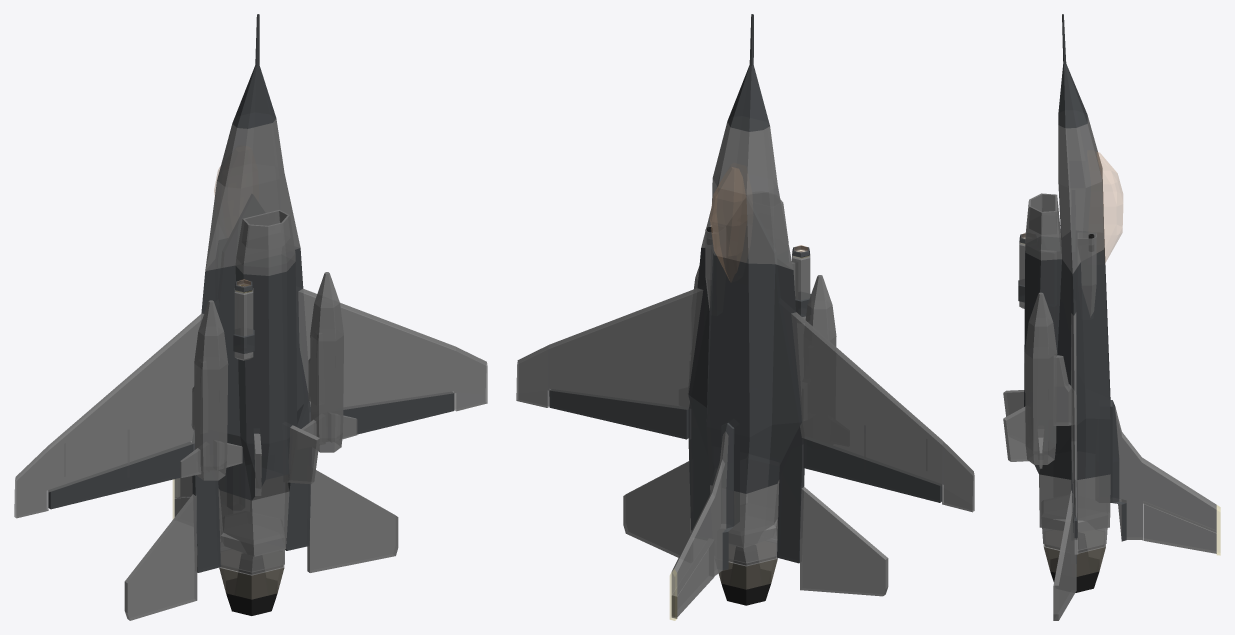
Rendered from F-16_fractured.fbx.
The picture shows the model from 3 angles, left to right: view 1: azimuth 30°, elevation 25°; view 2: azimuth 150°, elevation 25°; view 3: azimuth 270°, elevation 25°; orthographic projection. The views are drawn at different scales.
Visible parts, largest first — view 1: Body, RightWing, LeftWing, LeftBackWing, RightBackWing; view 2: Body, RightWing, LeftWing, RightBackWing, LeftBackWing; view 3: Body, LeftBackWing, LeftWing.
Part boxes in pixels (x1=…): Body: x1=173, y1=14, x2=357, y2=615; RightWing: x1=14, y1=313, x2=203, y2=518; LeftWing: x1=298, y1=288, x2=487, y2=434; LeftBackWing: x1=307, y1=470, x2=398, y2=572; RightBackWing: x1=124, y1=494, x2=197, y2=620; Body: x1=670, y1=14, x2=836, y2=620; RightWing: x1=791, y1=312, x2=974, y2=512; LeftWing: x1=516, y1=288, x2=703, y2=439; RightBackWing: x1=800, y1=487, x2=888, y2=596; LeftBackWing: x1=623, y1=461, x2=691, y2=557; Body: x1=1003, y1=14, x2=1220, y2=592; LeftBackWing: x1=1053, y1=490, x2=1076, y2=620; LeftWing: x1=1071, y1=312, x2=1078, y2=554.
Size of the model in its own units: 762 by 922 by 319.
